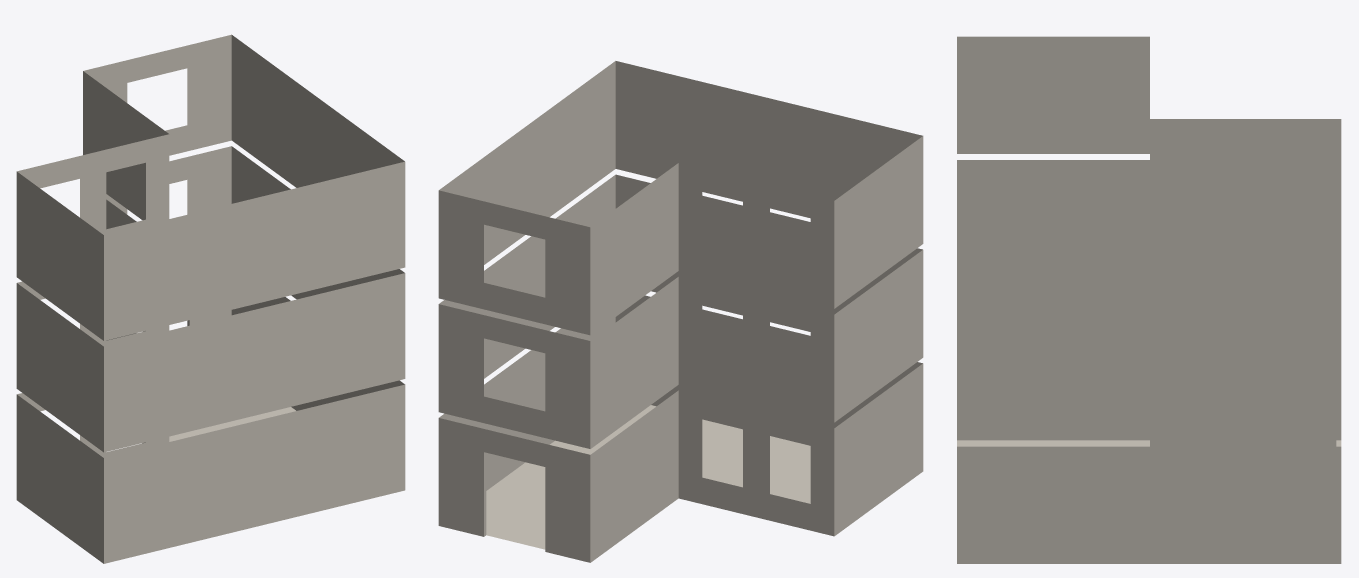
The model's file is Bld_R_med_L3_A.fbx.
3 renders of one model, left to right at view 1: azimuth 30°, elevation 25°; view 2: azimuth 150°, elevation 25°; view 3: azimuth 270°, elevation 25°, orthographic. The views are drawn at different scales.
Visible parts, largest first — view 1: Bld_R_med_L3_A_LOD0; view 2: Bld_R_med_L3_A_LOD0; view 3: Bld_R_med_L3_A_LOD0.
Part boxes in pixels (box(x1,y1,x2,y2)): Bld_R_med_L3_A_LOD0: box(16, 34, 405, 563); Bld_R_med_L3_A_LOD0: box(438, 61, 923, 562); Bld_R_med_L3_A_LOD0: box(957, 36, 1341, 563).
Size of what is drawn, in the model's own units: 1400 by 1837 by 1400.
1 material, 1 textured.
